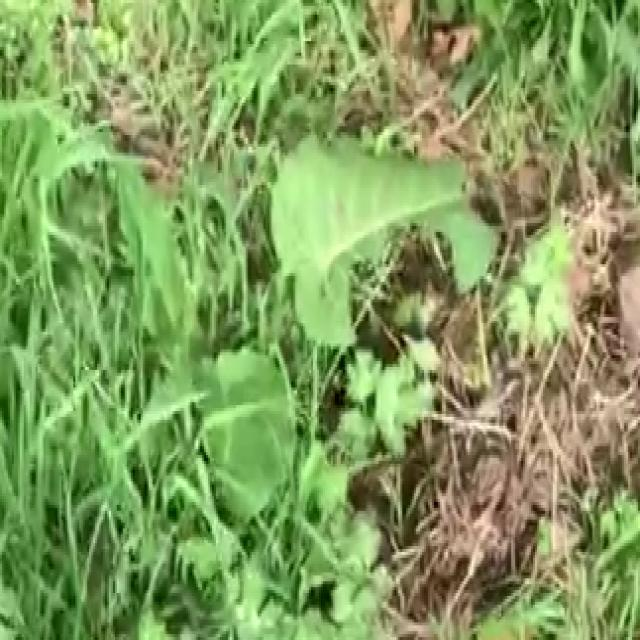organic waste: (85, 76, 533, 578)
